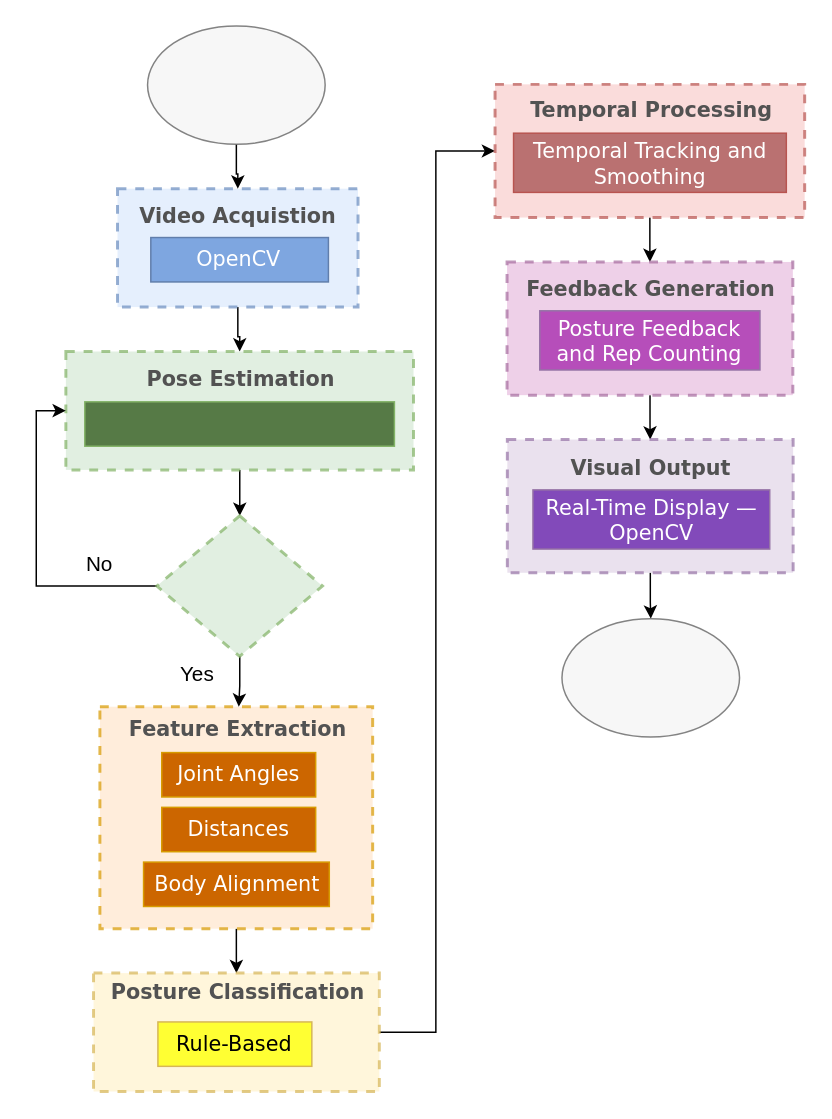
Image size: 832x1119. Some labels were removed from this diagram. Each missing label, with the box of its shape:
Are landmarks detected reliably?: (155, 514, 323, 657)
DISPLAY RESULTS: (560, 617, 740, 737)
MediaPipe Pose Landmarker: (83, 400, 394, 446)
START: (146, 24, 325, 144)
